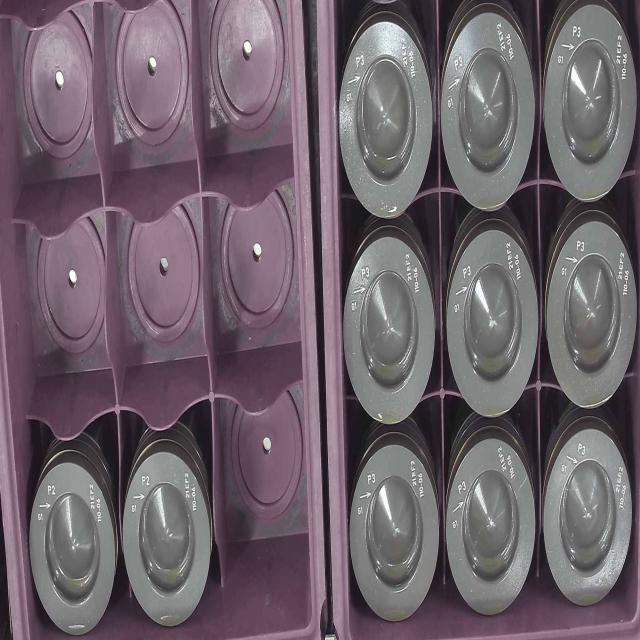P2: (27, 458, 115, 624), (126, 445, 211, 616)
P3: (441, 18, 539, 214), (450, 221, 542, 421), (341, 26, 433, 222), (346, 230, 437, 428), (447, 435, 539, 625), (546, 14, 637, 205), (548, 218, 636, 412), (546, 432, 637, 610), (351, 446, 442, 620)
